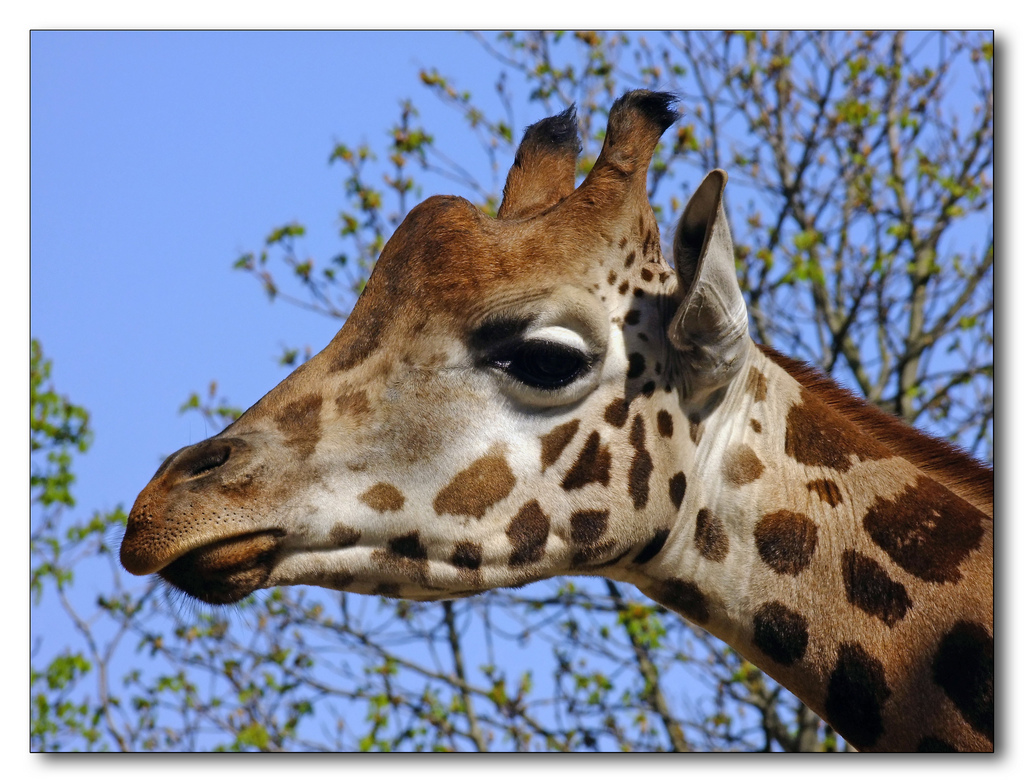giraffe: (153, 71, 966, 723)
